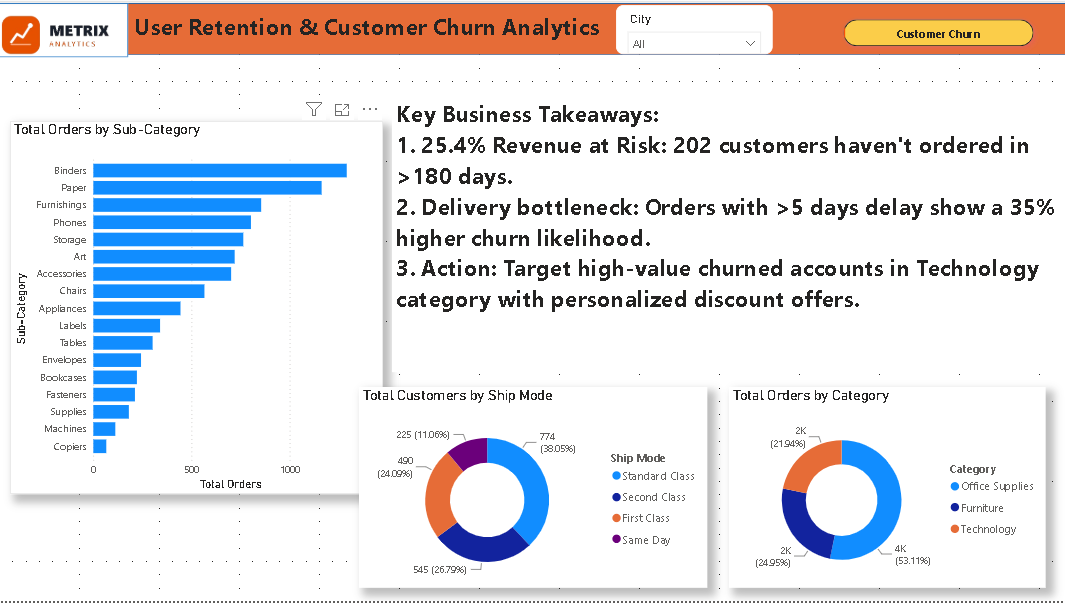

Layout of this report page (visuals, bound fields, positions):
{"tool":"powerbi","page":{"name":"User Retention","canvas":[1280,720],"ordinal":1},"visuals":[{"type":"donutChart","fields":{"Category":["Superstore.Category"],"Y":["Superstore.Total Orders"]},"box":[876,470.4,380.3,241.2],"z":0},{"type":"clusteredBarChart","fields":{"Category":["Superstore.Sub-Category"],"Y":["Superstore.Total Orders"]},"box":[13.2,144,430.8,496.8],"z":1000},{"type":"donutChart","fields":{"Category":["Superstore.Ship Mode"],"Y":["Superstore.Total Customers"]},"box":[444,470.4,417.6,241.2],"z":2000},{"type":"shape","box":[0,2.5,1280.4,62.4],"z":3000},{"type":"textbox","box":[157.5,6.2,604.3,65.2],"z":4000},{"type":"textbox","box":[471.4,110.8,808.6,334.8],"z":5000},{"type":"pageNavigator","box":[1004.3,13.5,246.2,50.5],"z":6000},{"type":"shape","box":[0,2.5,155.1,65.2],"z":7000},{"type":"image","box":[0,0,146.5,92.3],"z":8000},{"type":"slicer","fields":{"Values":["Superstore.City"]},"box":[740.9,4.9,188.3,59.1],"z":9000}]}

Visuals, with their boxes in screenshot pixels (x1, y1, x2, y2), scaled from the page's 1280x720 canvas onto the 1065x604 screenshot:
donutChart - Superstore.Category x Superstore.Total Orders: pyautogui.locateOnScreen(729, 395, 1045, 597)
clusteredBarChart - Superstore.Sub-Category x Superstore.Total Orders: pyautogui.locateOnScreen(11, 121, 369, 538)
donutChart - Superstore.Ship Mode x Superstore.Total Customers: pyautogui.locateOnScreen(369, 395, 717, 597)
shape: pyautogui.locateOnScreen(0, 2, 1064, 54)
textbox: pyautogui.locateOnScreen(131, 5, 634, 60)
textbox: pyautogui.locateOnScreen(392, 93, 1064, 374)
pageNavigator: pyautogui.locateOnScreen(836, 11, 1040, 54)
shape: pyautogui.locateOnScreen(0, 2, 129, 57)
image: pyautogui.locateOnScreen(0, 0, 122, 77)
slicer - Superstore.City: pyautogui.locateOnScreen(616, 4, 773, 54)
